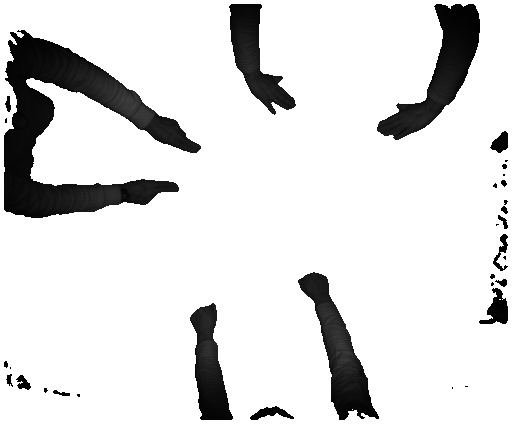fist: (184, 296, 223, 335), (296, 272, 335, 300)
hand: (240, 73, 295, 119), (156, 113, 207, 159), (376, 102, 428, 143), (127, 176, 183, 207)
